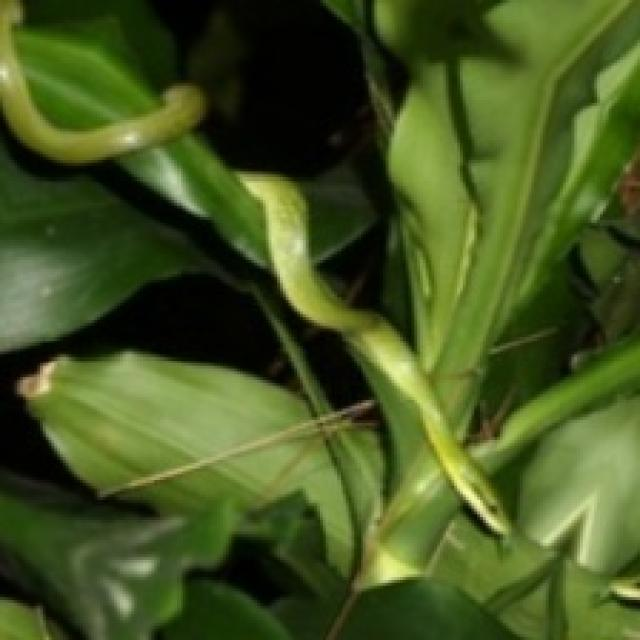red-tailed green ratsnake: (242, 174, 509, 534), (0, 0, 203, 163)
